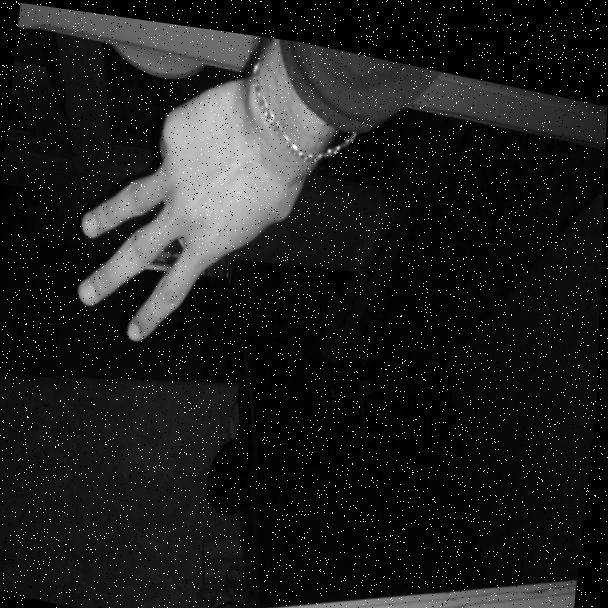five: (58, 33, 320, 388)
